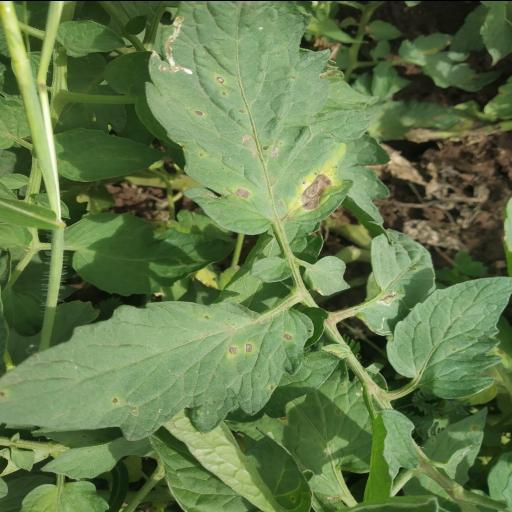disease_tomato: (146, 0, 386, 232), (0, 300, 314, 438)
